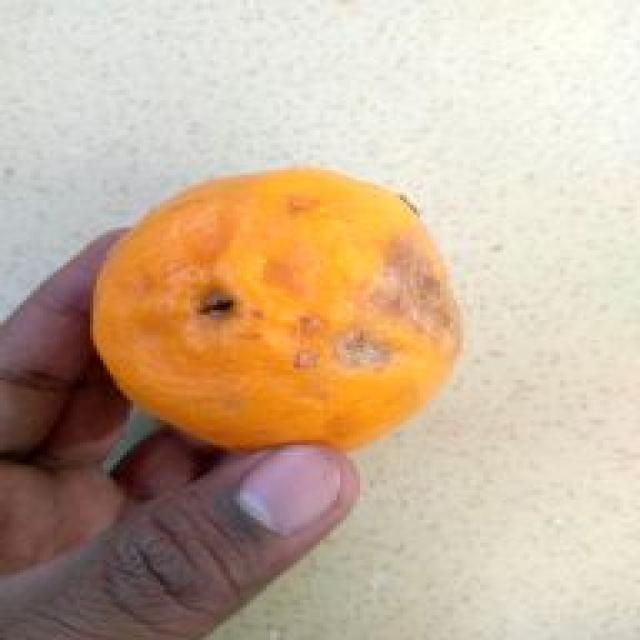Bad_Orange: (95, 168, 460, 449)
